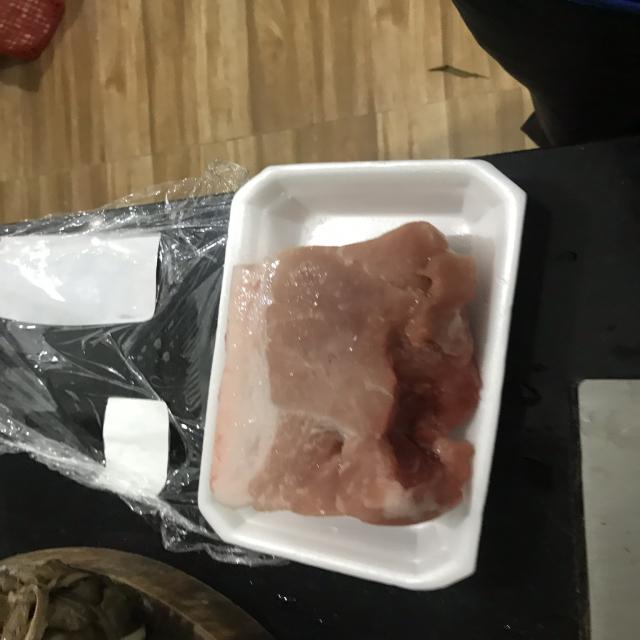chicken: (215, 220, 493, 525)
